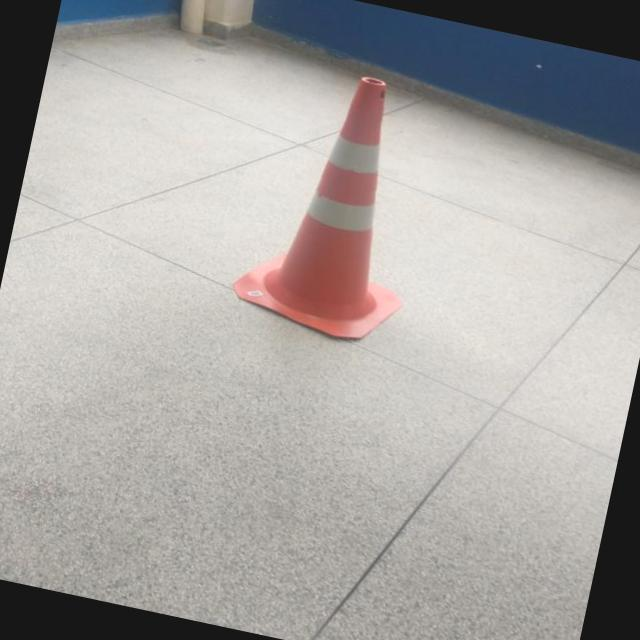Cone: (248, 52, 445, 363)
